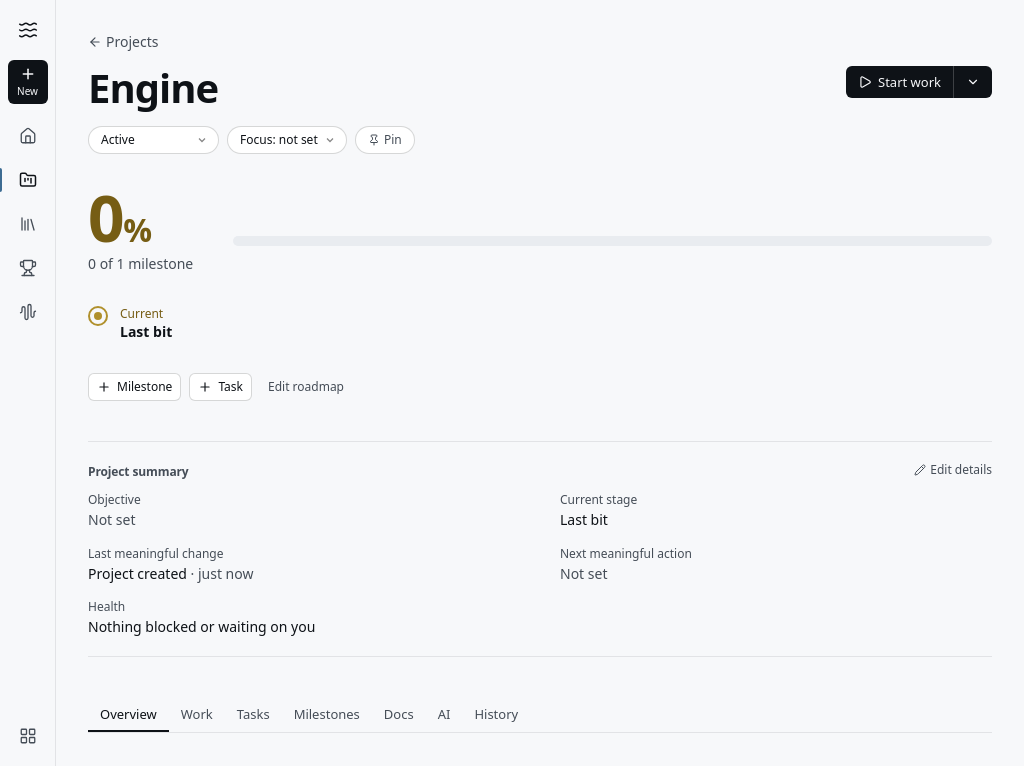
Scenario: Project Command Room (v2 PHASE 013) › refuses Done while milestones are open, and explains how to proceed
The width and height of the screenshot is (1024, 766).
expect the heading "Engine" is shown: met, box [88,60,218,115]
expect the element named "Project sections" is shown: met, box [88,697,992,733]
Select "Done" in the 1st dropdown named "Project state" at (154, 140), box [88,126,219,154]
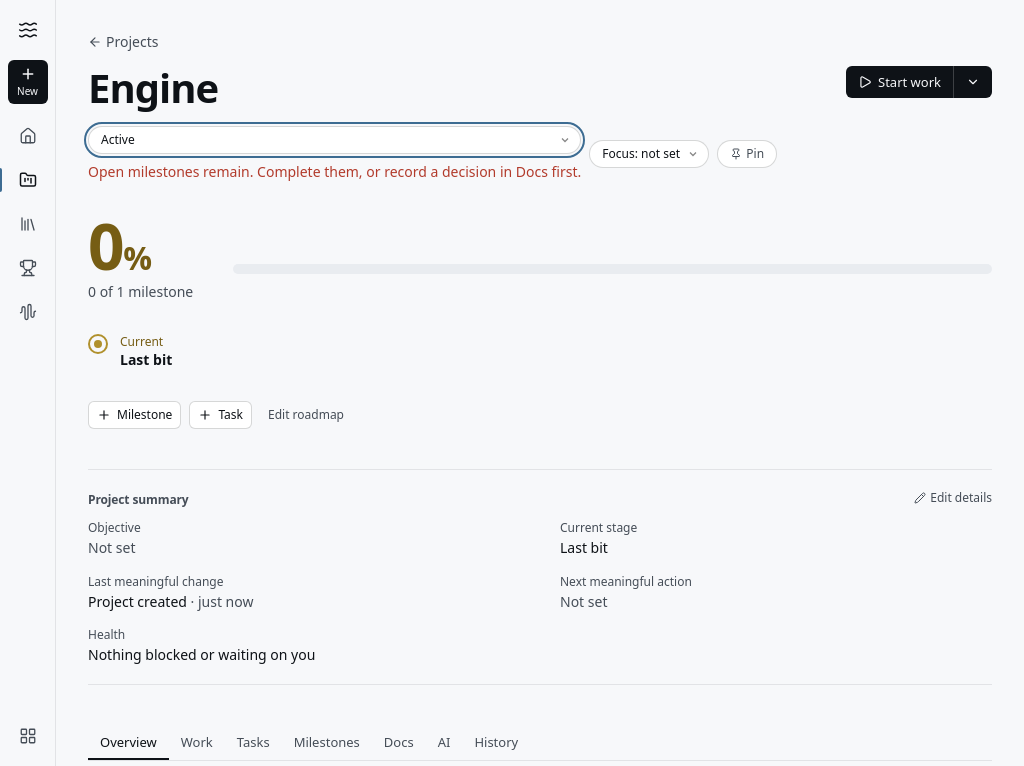
expect the message shows "record a decision in Docs": met, box [88,162,581,181]
